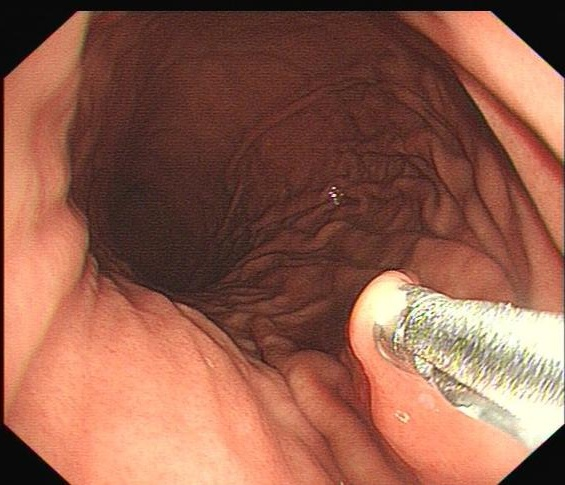Polyp: (325, 267, 426, 372)
